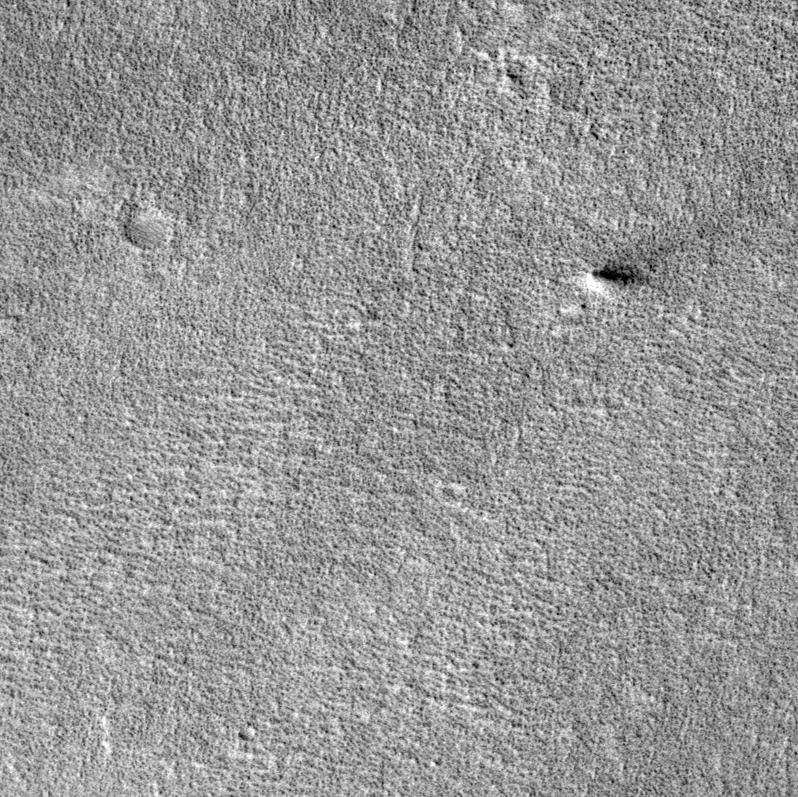dust_devil: (583, 258, 648, 300)
